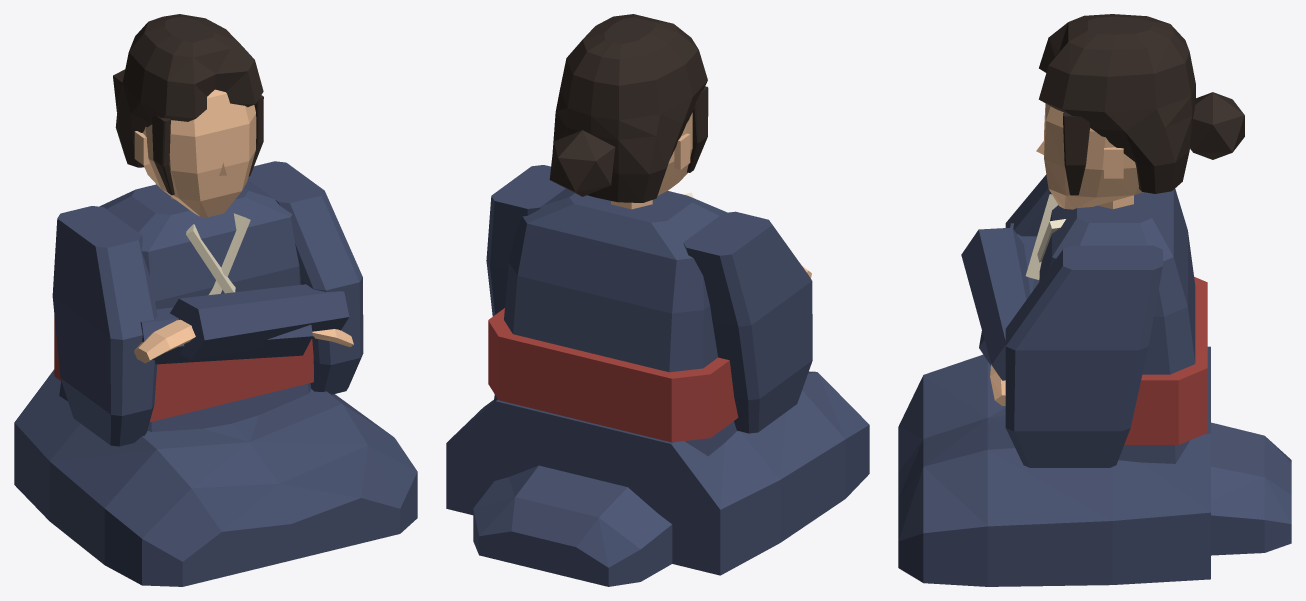
The model's file is KANJI_08_ONNA.fbx.
3 views of the same model, side by side, from view 1: azimuth 30°, elevation 25°; view 2: azimuth 150°, elevation 25°; view 3: azimuth 270°, elevation 25° (orthographic). The views are drawn at different scales.
Visible parts, largest first — view 1: SM_KANJI_08_Onna; view 2: SM_KANJI_08_Onna; view 3: SM_KANJI_08_Onna.
Boxes of the visible parts, <box> form: SM_KANJI_08_Onna: <box>14,14,417,586</box>; SM_KANJI_08_Onna: <box>446,14,869,586</box>; SM_KANJI_08_Onna: <box>898,14,1291,586</box>.
Bounding box in the file's own units: 0.2 × 0.3 × 0.22.
